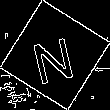N_N: (30, 26, 80, 84)
